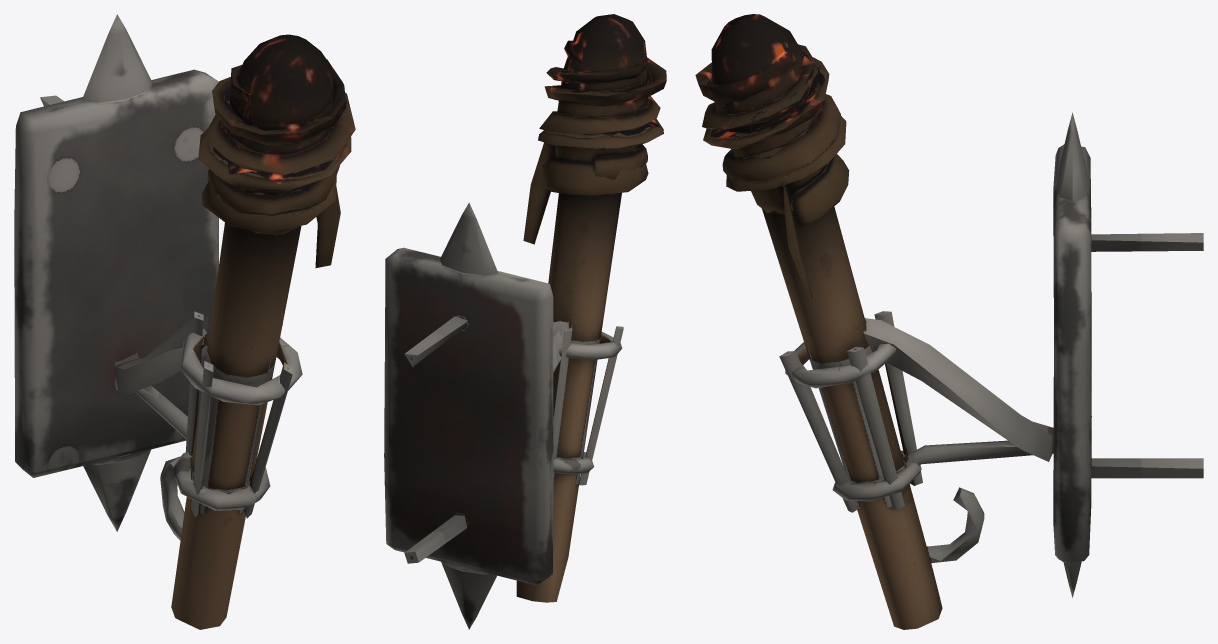
File: torch_wall.glb
3 renders of one model, left to right at view 1: azimuth 30°, elevation 25°; view 2: azimuth 150°, elevation 25°; view 3: azimuth 270°, elevation 25°, orthographic. The views are drawn at different scales.
Visible parts, largest first — view 1: torch_wall; view 2: torch_wall; view 3: torch_wall.
Boxes of the visible parts, left/top/right/bottom form: torch_wall: left=14, top=14, right=355, bottom=629; torch_wall: left=384, top=14, right=666, bottom=629; torch_wall: left=695, top=14, right=1203, bottom=629.
Size of the model in its own units: 0.1707 by 0.5345 by 0.4072.
1 material, 1 textured.
